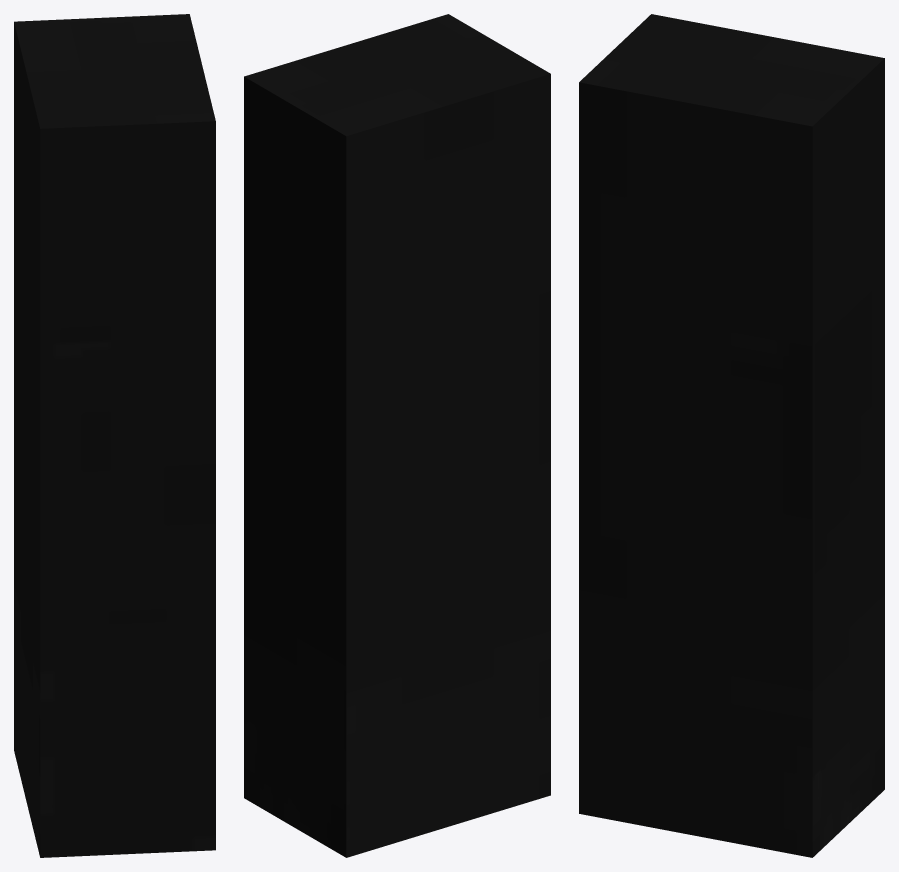
File: support_link__support_cap.glb
3 views of the same model, side by side, from view 1: azimuth 30°, elevation 25°; view 2: azimuth 150°, elevation 25°; view 3: azimuth 270°, elevation 25° (orthographic).
Visible parts, largest first — view 1: world; view 2: world; view 3: world.
Boxes of the visible parts, box(x1,y1,x2,y2) form: world: box(14, 14, 215, 857); world: box(244, 14, 550, 857); world: box(579, 14, 884, 857).
Size of the model in its own units: 0.0271 by 0.082 by 0.0311.
1 material, 1 textured.
